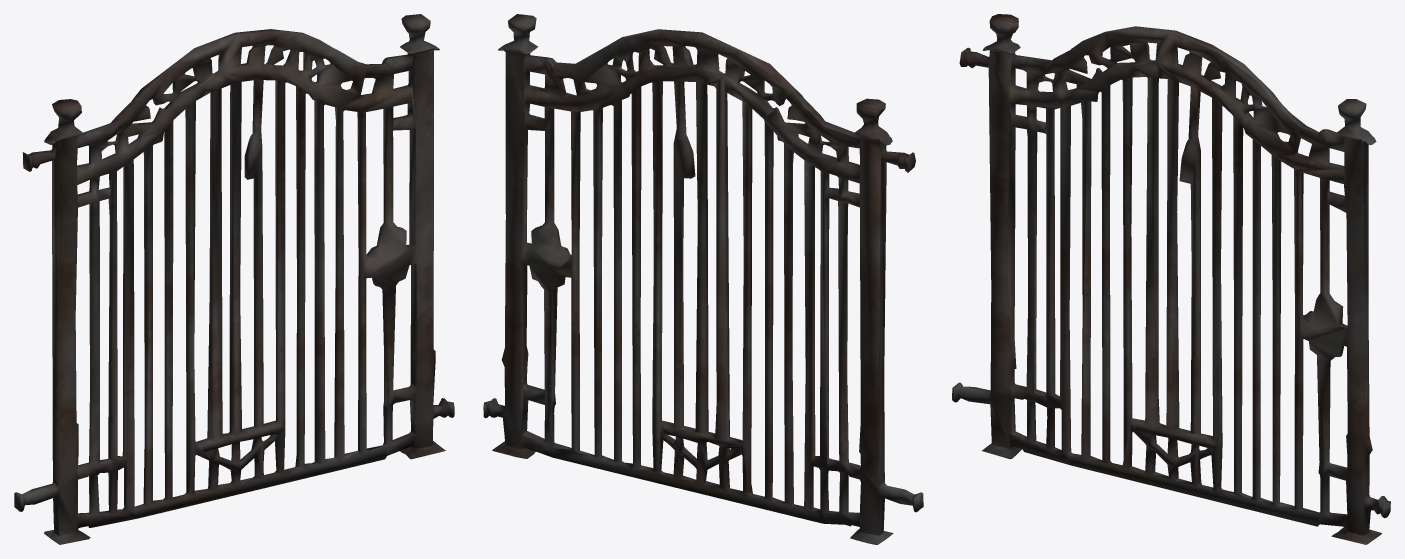
File: old-iron-iron-gate-v003.glb
3 renders of one model, left to right at view 1: azimuth 30°, elevation 25°; view 2: azimuth 150°, elevation 25°; view 3: azimuth 330°, elevation 25°, orthographic.
Parts seen in each view (by area): view 1: old-iron-iron-gate; view 2: old-iron-iron-gate; view 3: old-iron-iron-gate.
Boxes of the visible parts, <box> form: old-iron-iron-gate: <box>14,14,454,544</box>; old-iron-iron-gate: <box>483,14,923,544</box>; old-iron-iron-gate: <box>952,14,1390,544</box>.
Size of the model in its own units: 2.33 by 2.33 by 0.1536.
1 material, 1 textured.
